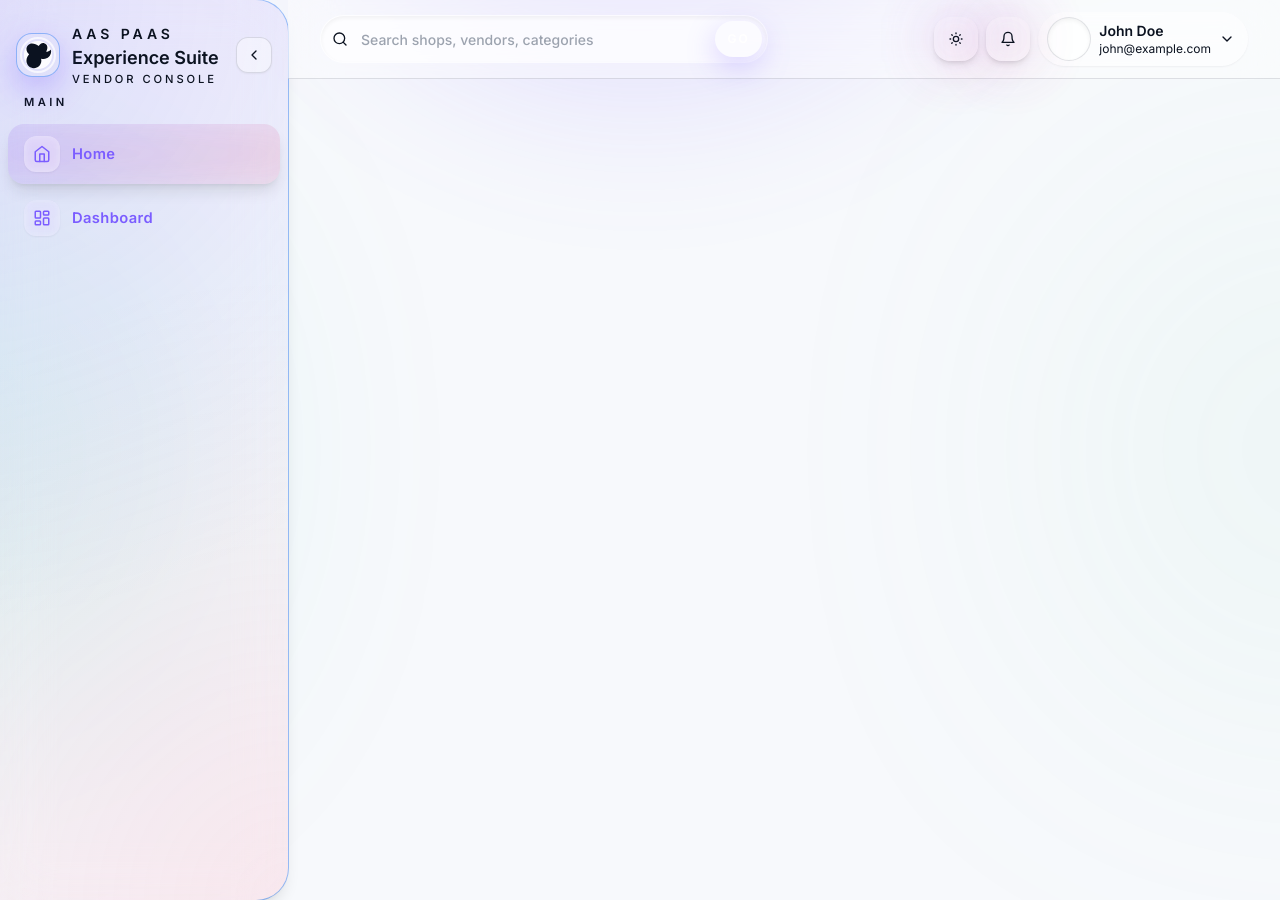
Test: AppShell › collapses sidebar
Click the button named "collapse sidebar".
click(254, 55)  # box [236, 37, 272, 73]
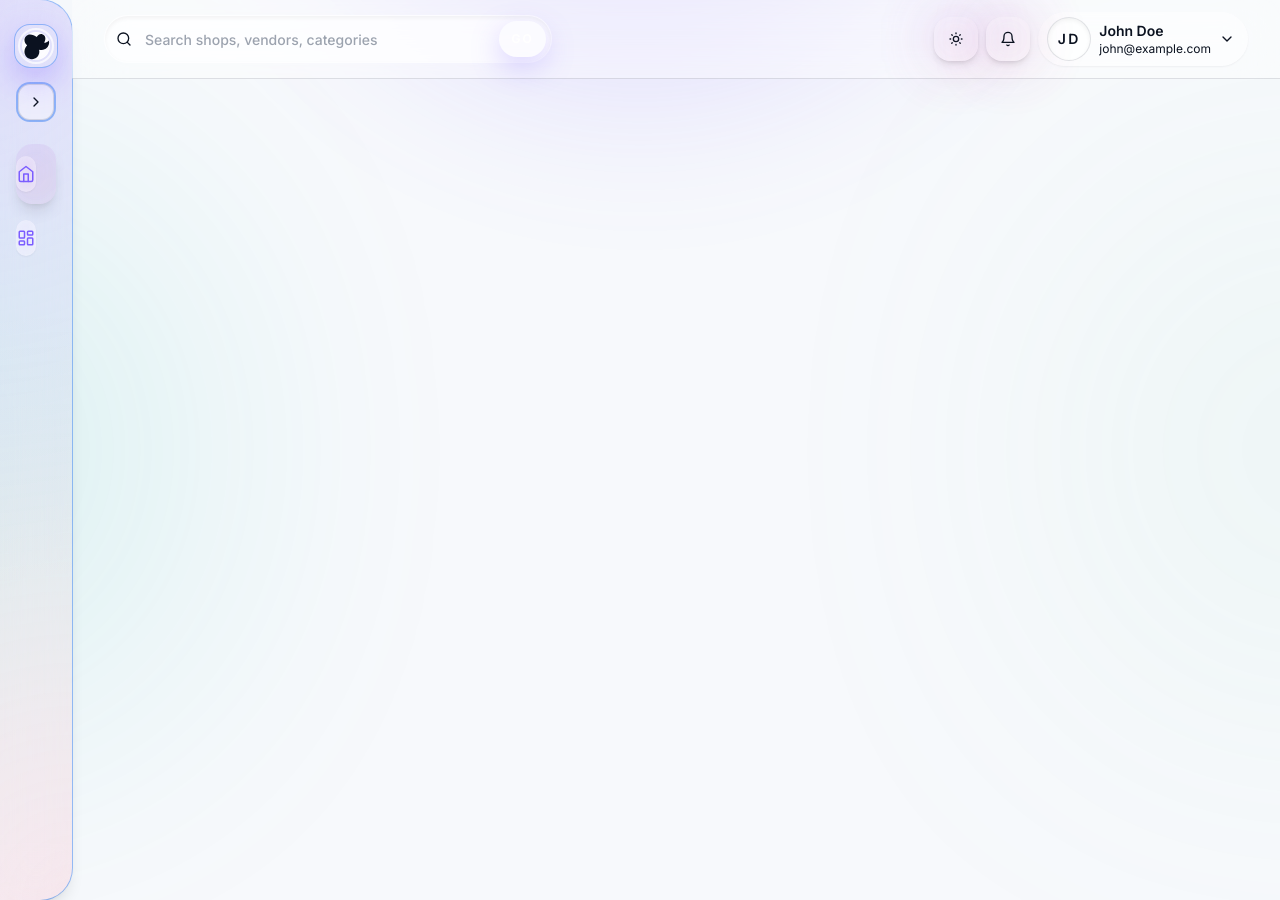
expect the button named "expand sidebar" is shown: met, box [18, 84, 54, 120]
